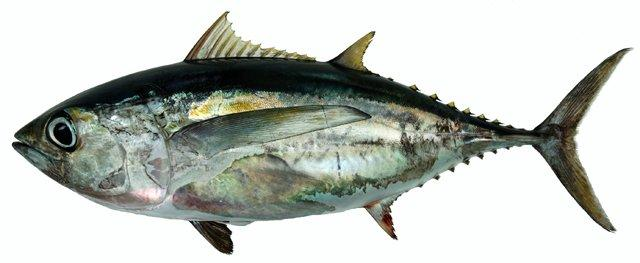Mulut: (8, 120, 42, 170)
Sirip Anal: (366, 184, 409, 244)
Sirip Dada: (182, 98, 374, 162)
Sirip Ekor: (545, 42, 633, 238)
Sirip Perut: (186, 212, 240, 256)
Sirip Punggung: (186, 6, 382, 72)
